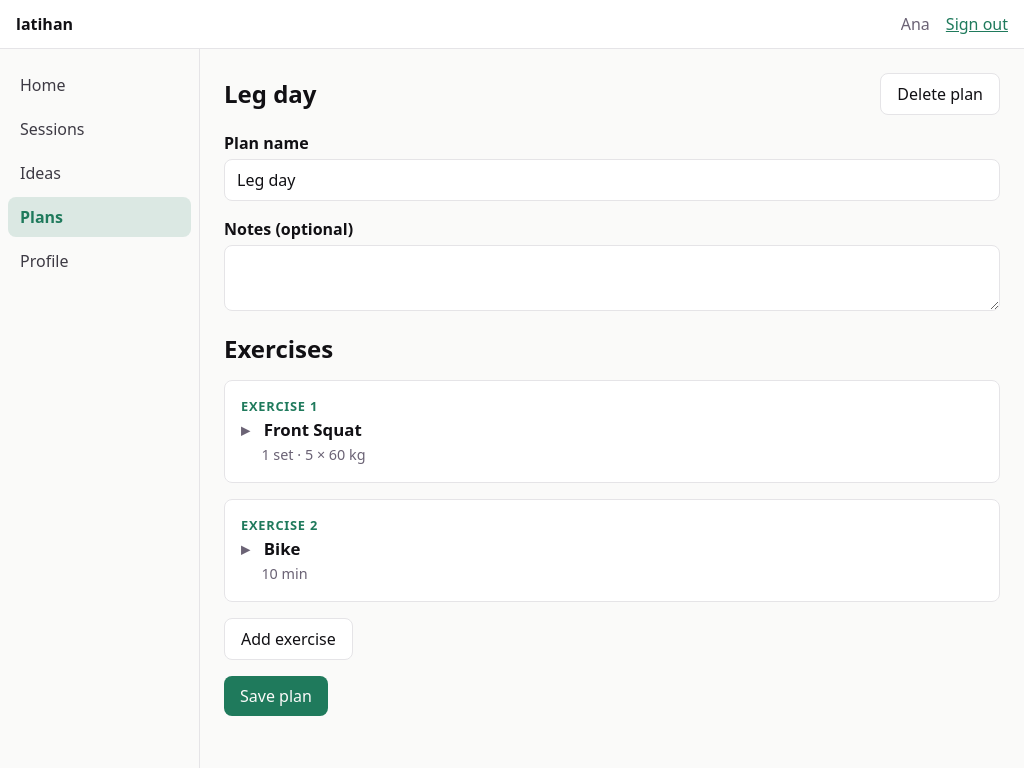
deleting a plan › keeps a plan that sessions use, and says why
What coordinates should you click on to do the following:
click the button "Delete plan"
I would click on:
 (940, 94)
Its box is top-left (880, 73), bottom-right (1000, 115).
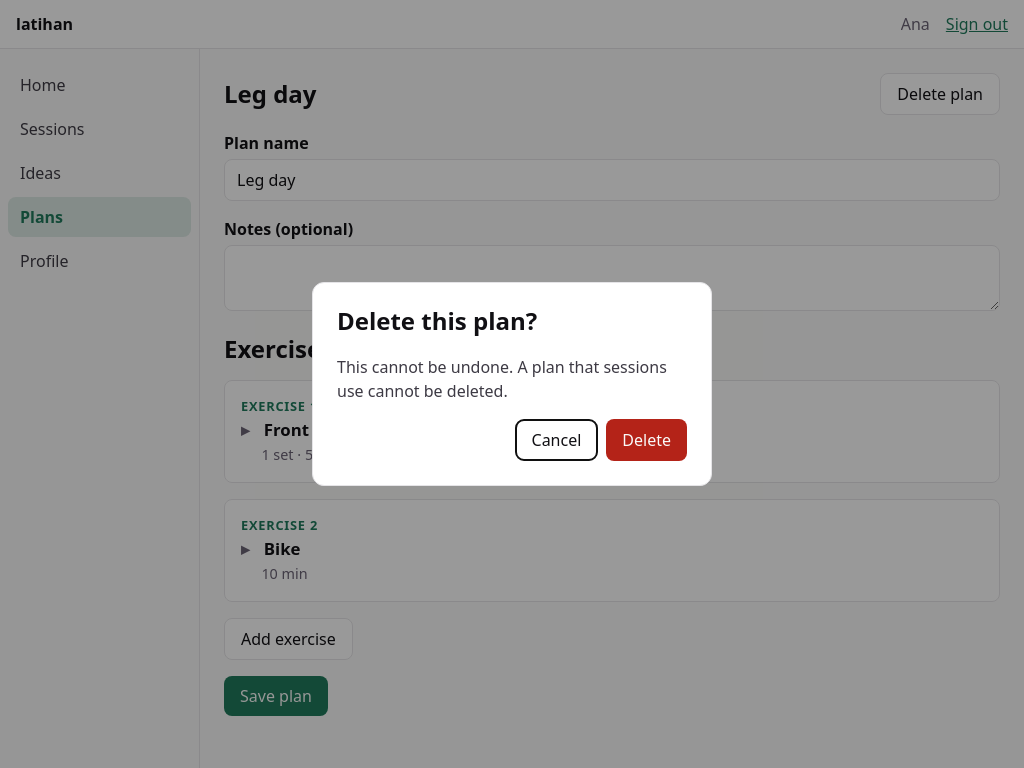
What coordinates should you click on to do the following:
click the button "Delete"
I would click on:
 (647, 440)
Its box is top-left (606, 419), bottom-right (687, 461).
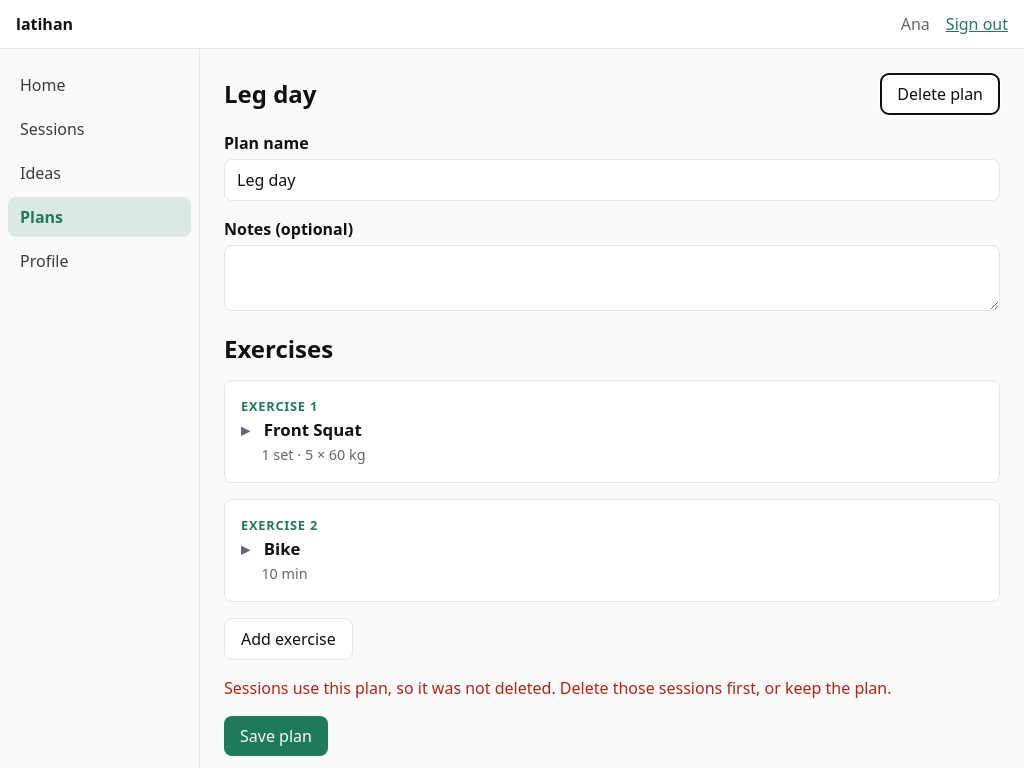
Expected: the message shows "Sessions use this plan, so it was not deleted.", top-left (224, 677), bottom-right (892, 699)
Expected: the dialog is gone
